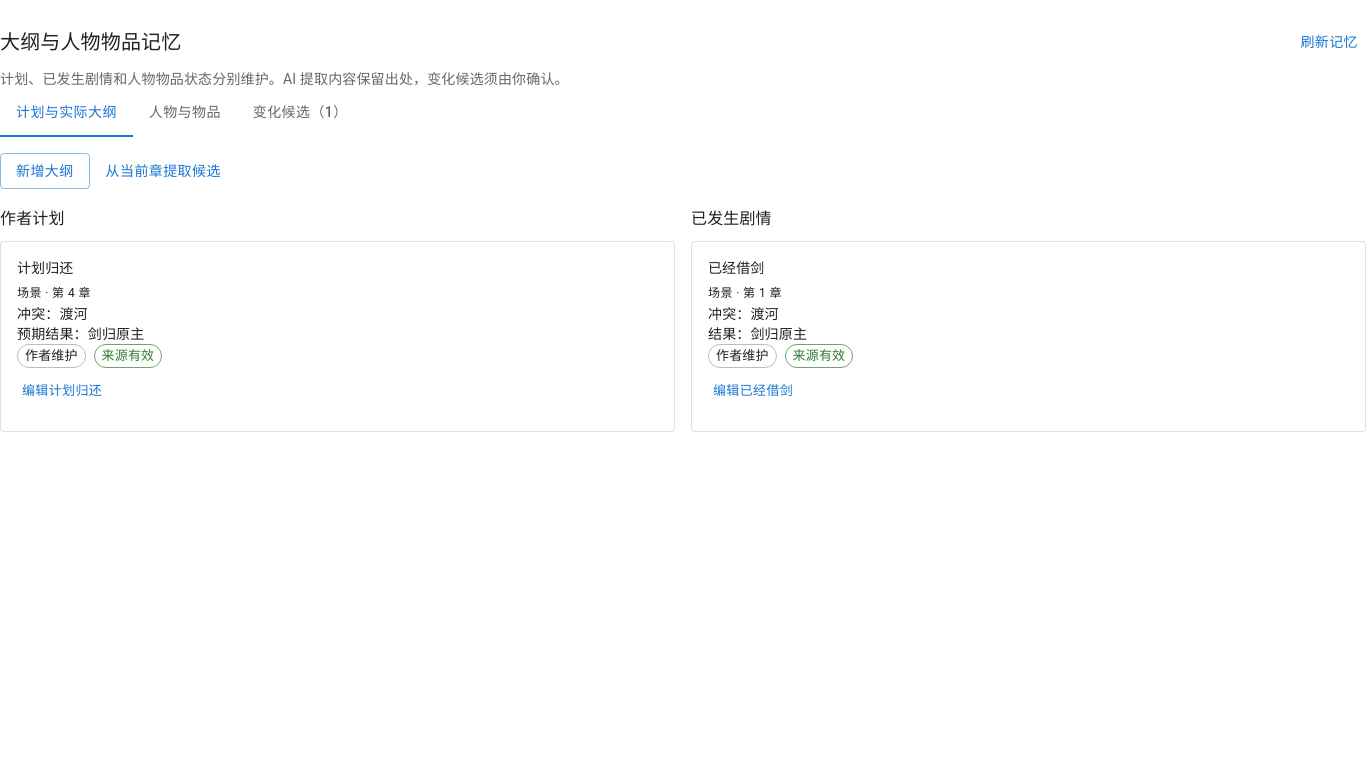
Test case: 结构化记忆工作区 › 失效来源禁确认但可拒绝，拒绝仍有审阅记录
Click the tab "变化候选（1）" at (300, 112), box [237,88,364,136]
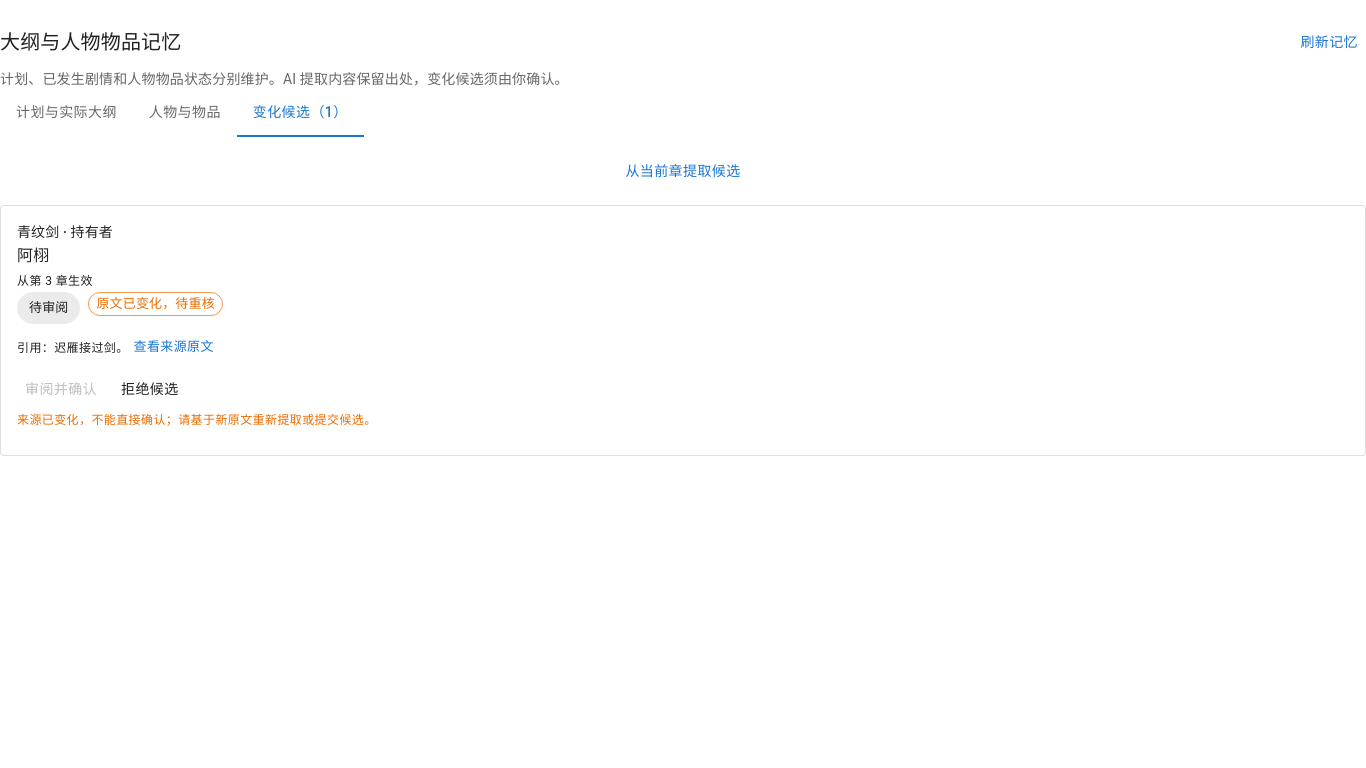
Now the button "审阅并确认" is disabled, box [17,371,105,407]
Click the button "拒绝候选" at (150, 389), box [113,371,187,407]
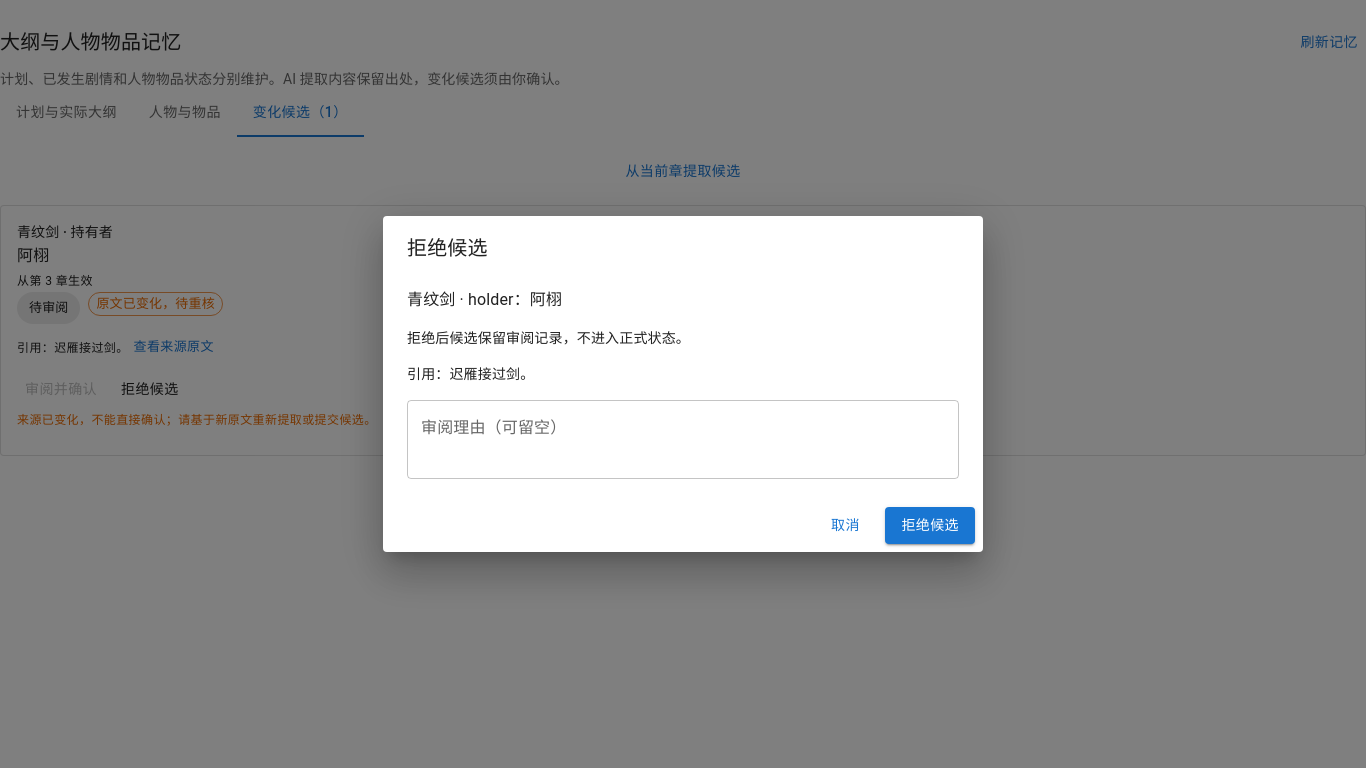
Type "原文已经修改" into the text box labelled "审阅理由（可留空）" at (683, 440), box [421,417,945,463]
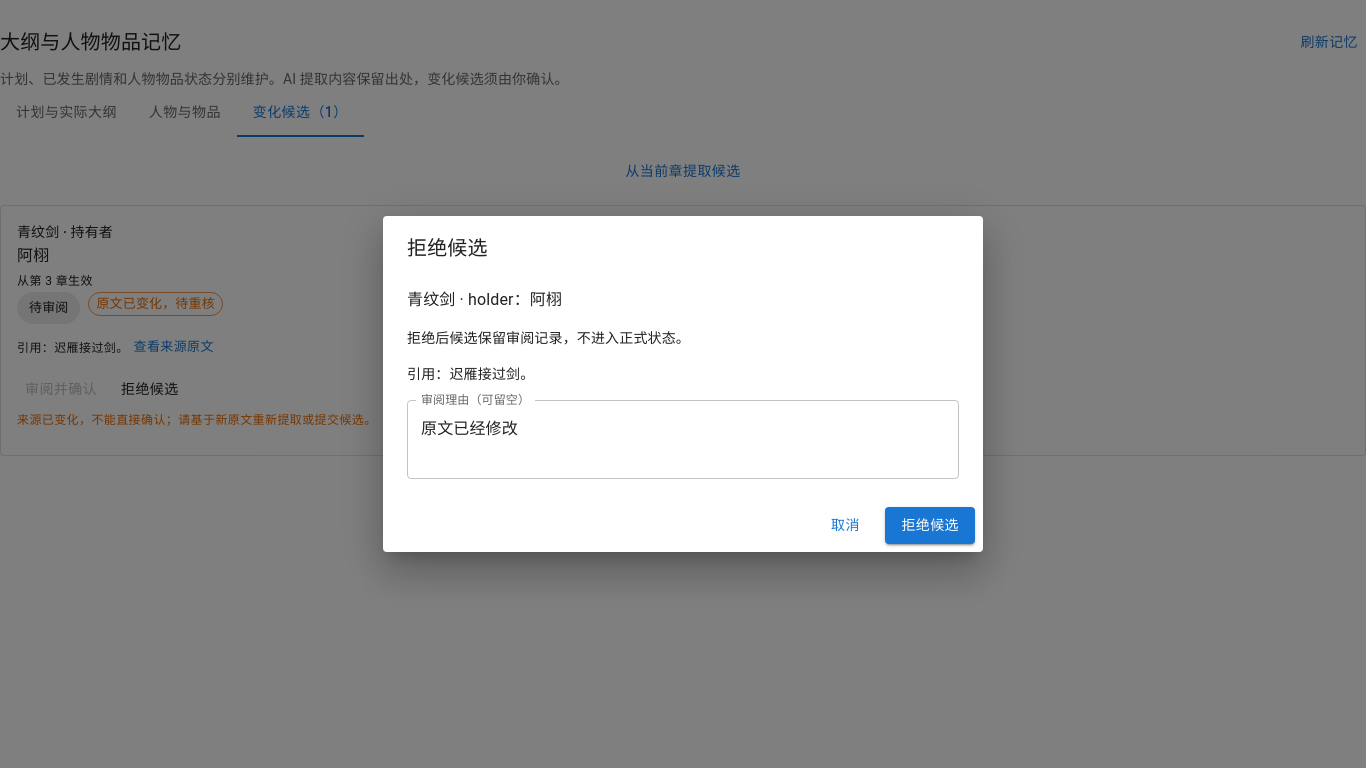
Click the button "拒绝候选" at (930, 526), box [885,507,975,544]
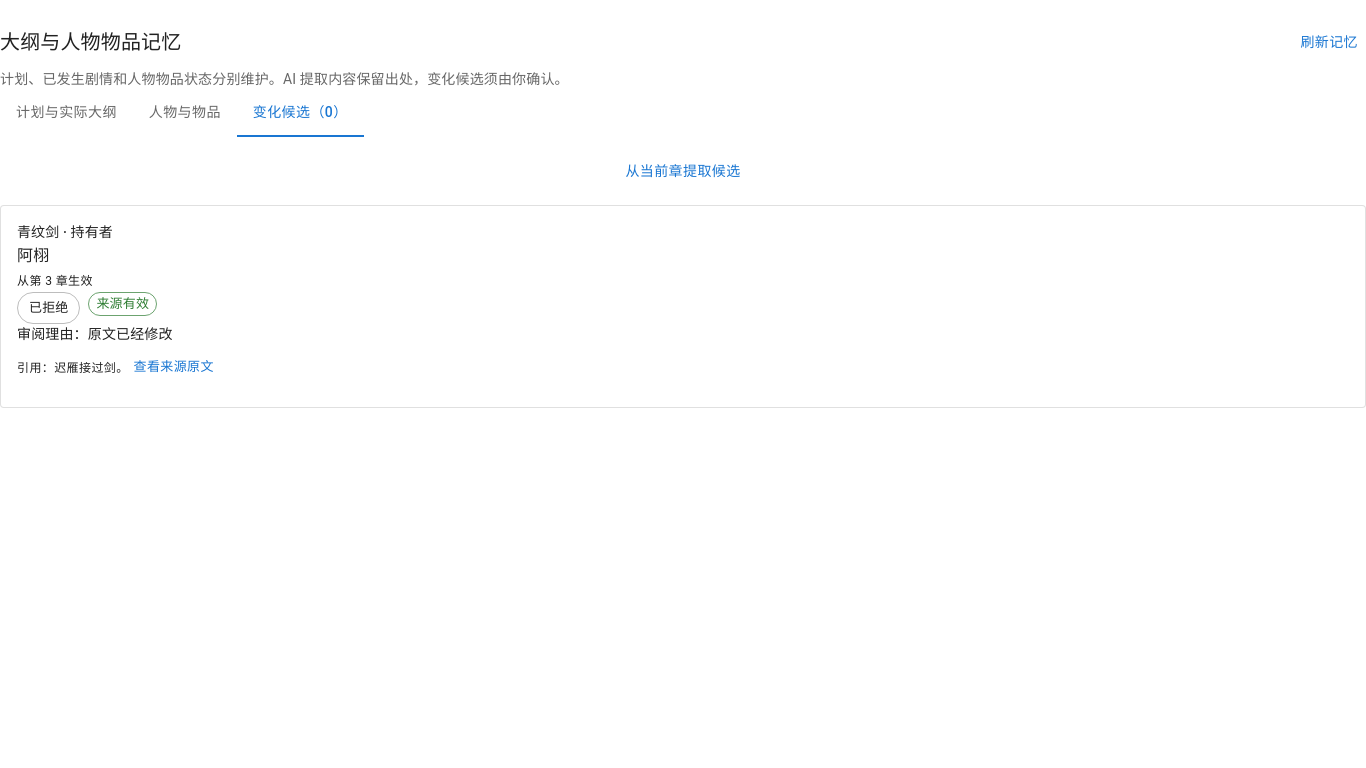
Now the text "已拒绝" is shown, box [29,300,68,315]
